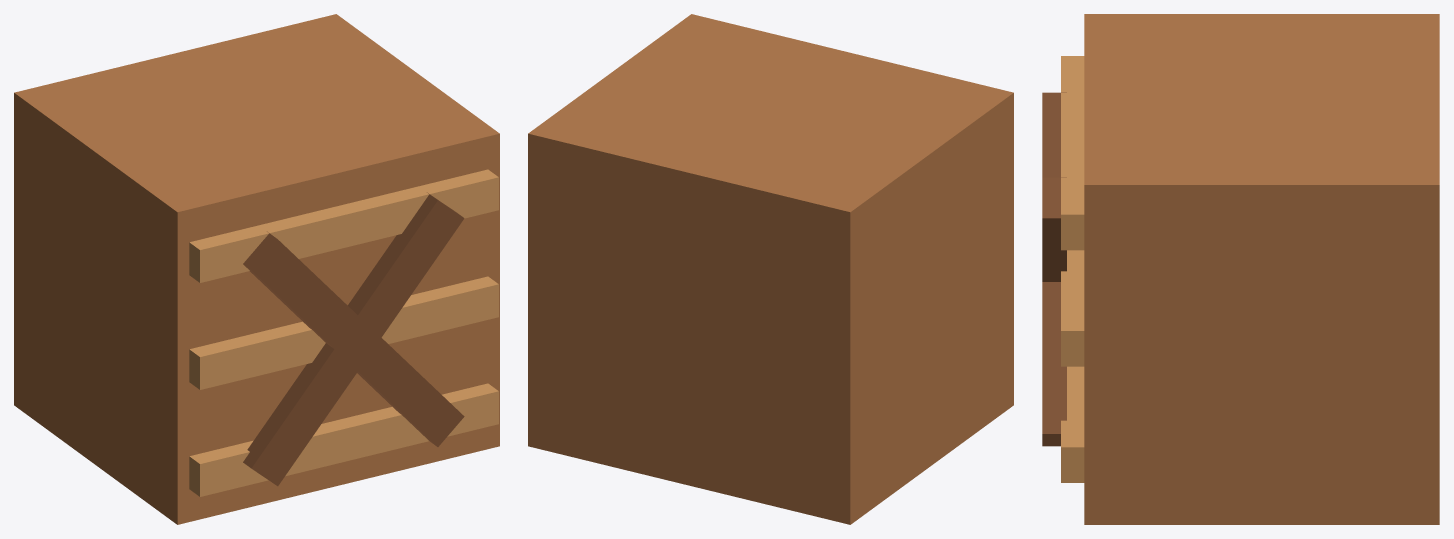
Rendered from bp_decorcrate.glb.
3 renders of one model, left to right at view 1: azimuth 30°, elevation 25°; view 2: azimuth 150°, elevation 25°; view 3: azimuth 270°, elevation 25°, orthographic. The views are drawn at different scales.
Visible parts, largest first — view 1: Crate, Brace.001, Plank.002, Brace.002, Plank.001, Plank; view 2: Crate; view 3: Crate, Brace.002, Plank.002, Plank.001, Plank, Brace.001.
Part boxes in pixels (x1=…): Crate: x1=14, y1=14, x2=499, y2=524; Brace.001: x1=243, y1=192, x2=464, y2=486; Plank.002: x1=189, y1=169, x2=498, y2=282; Brace.002: x1=243, y1=231, x2=464, y2=446; Plank.001: x1=189, y1=276, x2=498, y2=389; Plank: x1=189, y1=383, x2=498, y2=496; Crate: x1=528, y1=14, x2=1013, y2=524; Crate: x1=1084, y1=14, x2=1439, y2=524; Brace.002: x1=1042, y1=92, x2=1066, y2=446; Plank.002: x1=1061, y1=56, x2=1084, y2=250; Plank.001: x1=1061, y1=250, x2=1084, y2=366; Plank: x1=1061, y1=366, x2=1084, y2=482; Brace.001: x1=1042, y1=177, x2=1066, y2=281.
Bounding box in the file's own units: 0.82 × 0.76 × 0.805.
